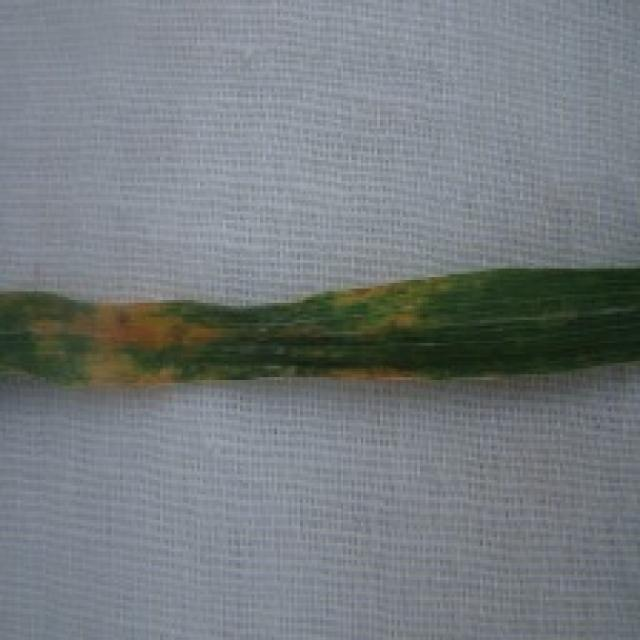Bacterial_Blight: (0, 294, 233, 391), (308, 263, 480, 341), (318, 362, 520, 396)
